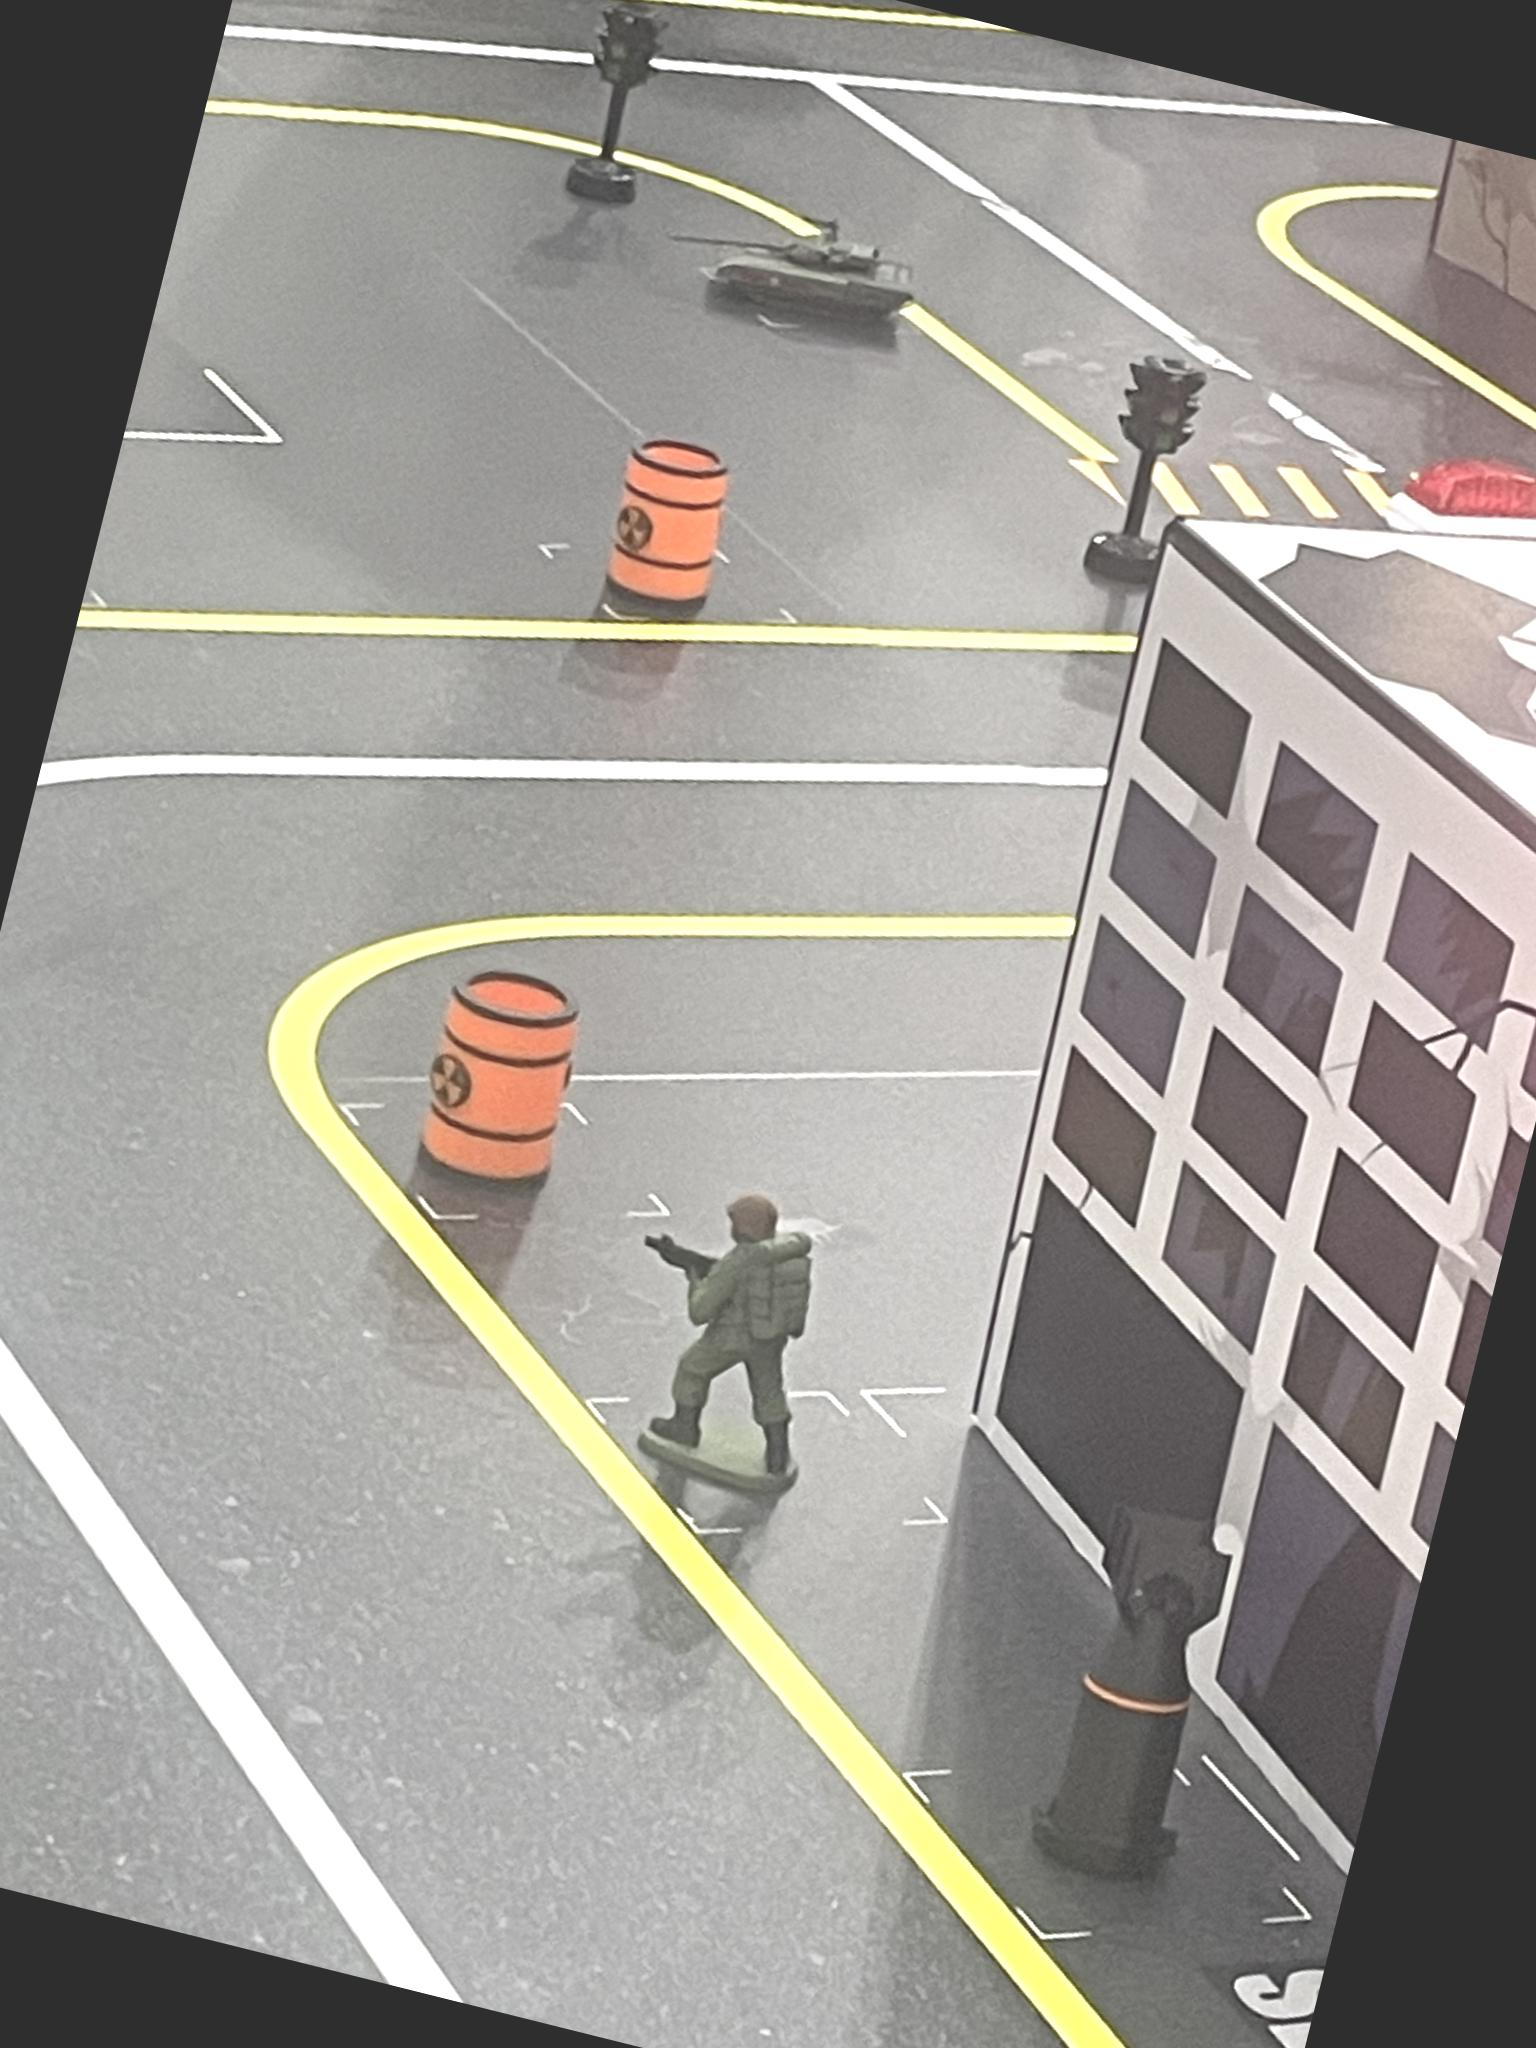Enemy: (594, 1172, 852, 1506)
Hazmat: (408, 959, 597, 1208), (591, 429, 741, 621)
Missile: (1020, 1493, 1258, 1890)
Tank: (668, 185, 925, 347)
